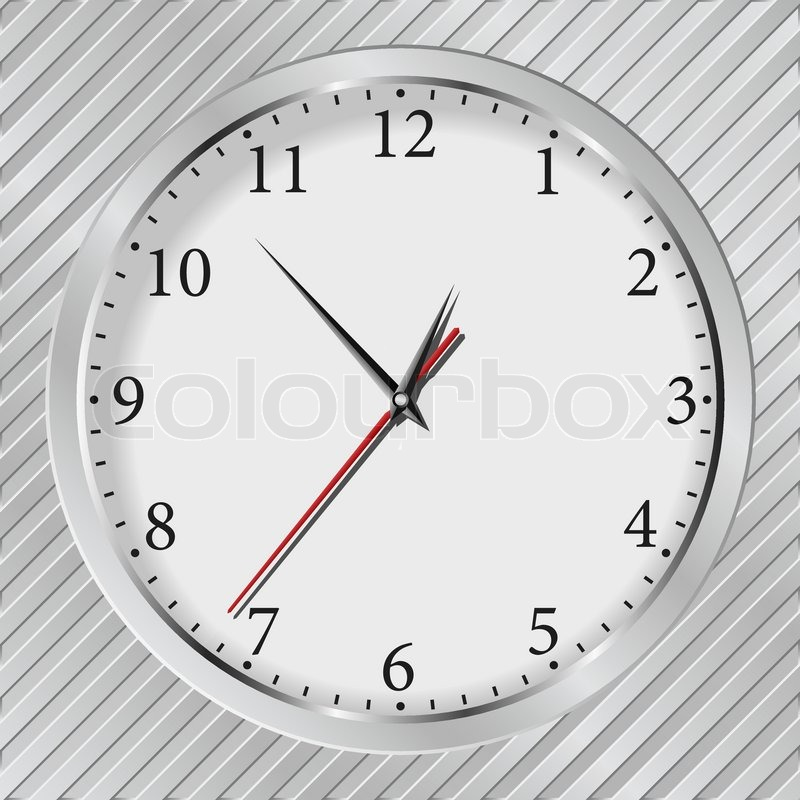clock: (84, 77, 726, 726)
